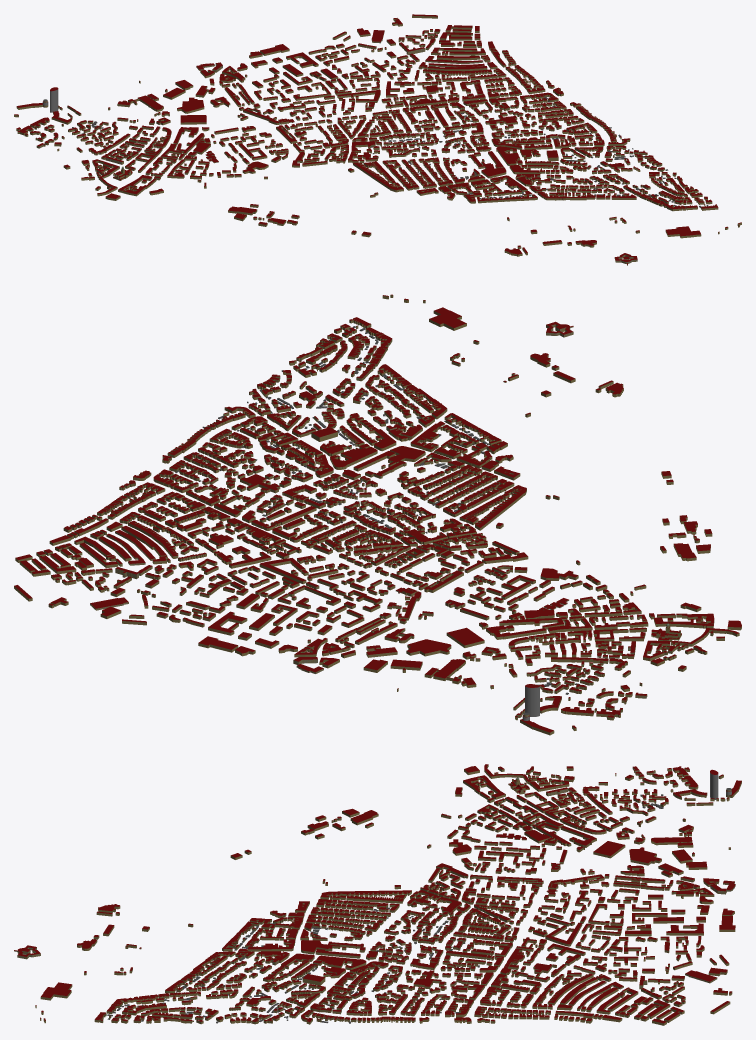
3 views of the same model, one above another, from view 1: azimuth 30°, elevation 25°; view 2: azimuth 150°, elevation 25°; view 3: azimuth 270°, elevation 25° (orthographic). The views are drawn at different scales.
Parts seen in each view (by area): view 1: no part large enough to name; view 2: no part large enough to name; view 3: Building706.
Part boxes in pixels (left/top/right/bottom): Building706: left=316, top=955, right=366, bottom=970.
Bounding box in the file's own units: 1723 × 77.5 × 2043.
